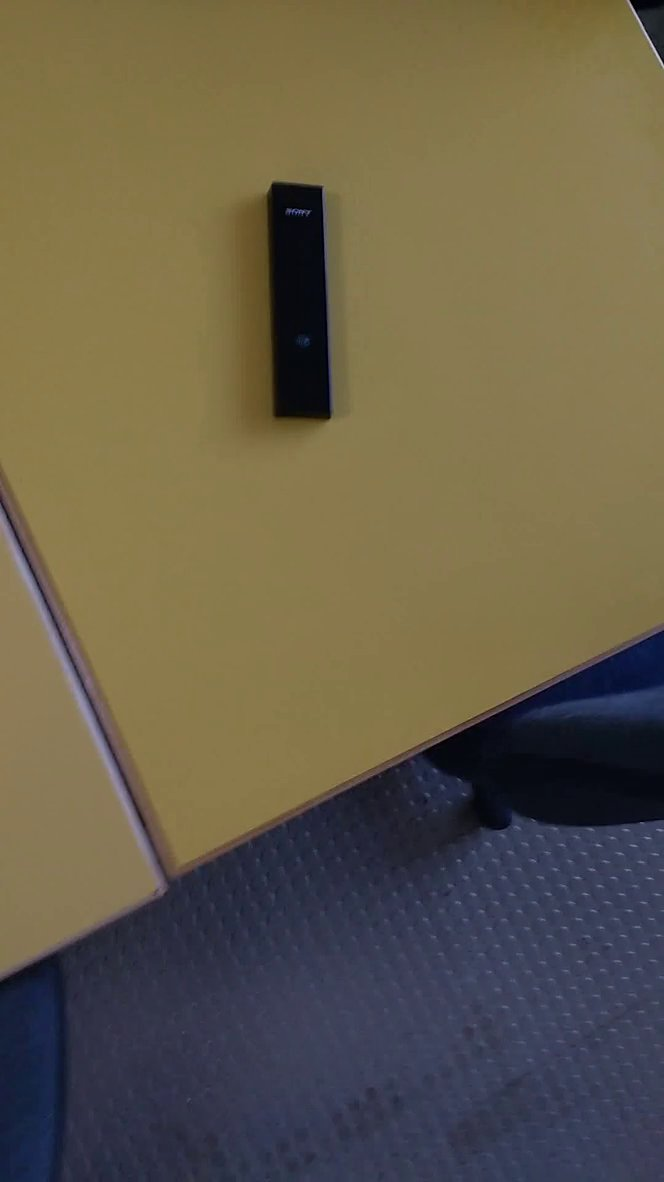remote: (242, 173, 364, 434)
